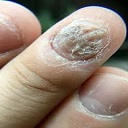Nail Fungal Infection: (53, 22, 100, 60)
